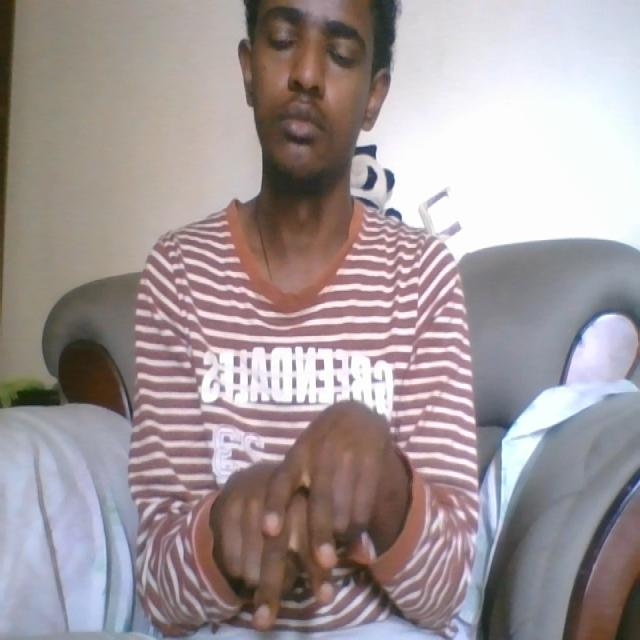babur: (211, 390, 400, 640)
